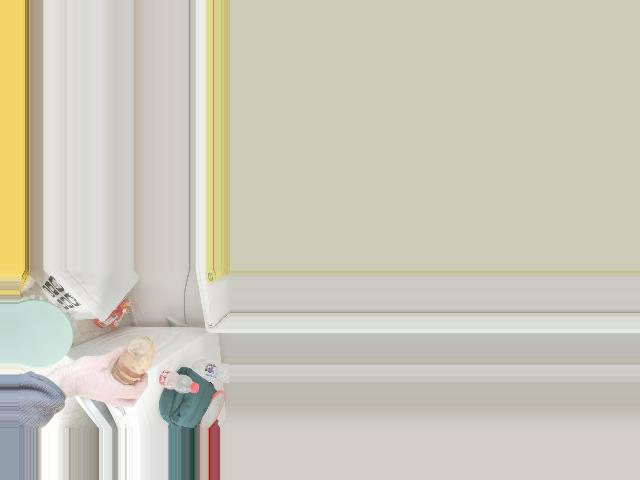sweet_potato: (112, 338, 156, 381)
